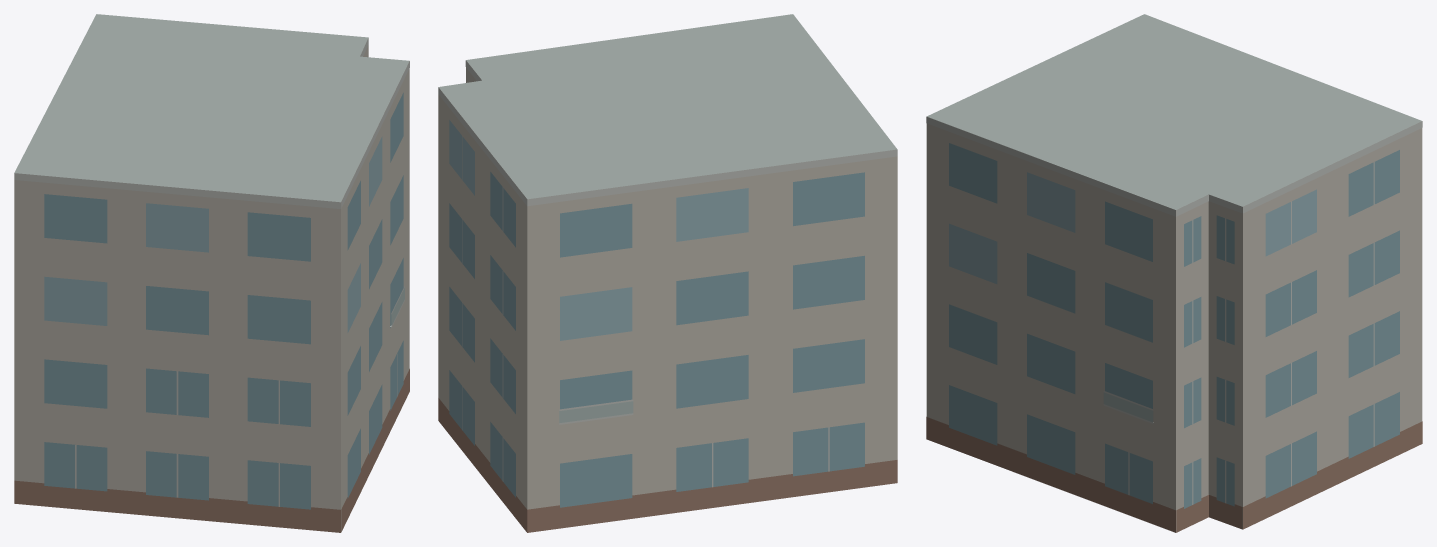
The model's file is survey-upis-32862275.glb.
3 views of the same model, side by side, from view 1: azimuth 30°, elevation 25°; view 2: azimuth 150°, elevation 25°; view 3: azimuth 270°, elevation 25° (orthographic). The views are drawn at different scales.
Visible parts, largest first — view 1: survey-upis-32862275.tmp; view 2: survey-upis-32862275.tmp; view 3: survey-upis-32862275.tmp.
Boxes of the visible parts, x1=… form: survey-upis-32862275.tmp: x1=14, y1=14, x2=409, y2=532; survey-upis-32862275.tmp: x1=438, y1=14, x2=897, y2=532; survey-upis-32862275.tmp: x1=926, y1=14, x2=1422, y2=532.
Size of the model in its own units: 15.26 by 11.7 by 16.3.
